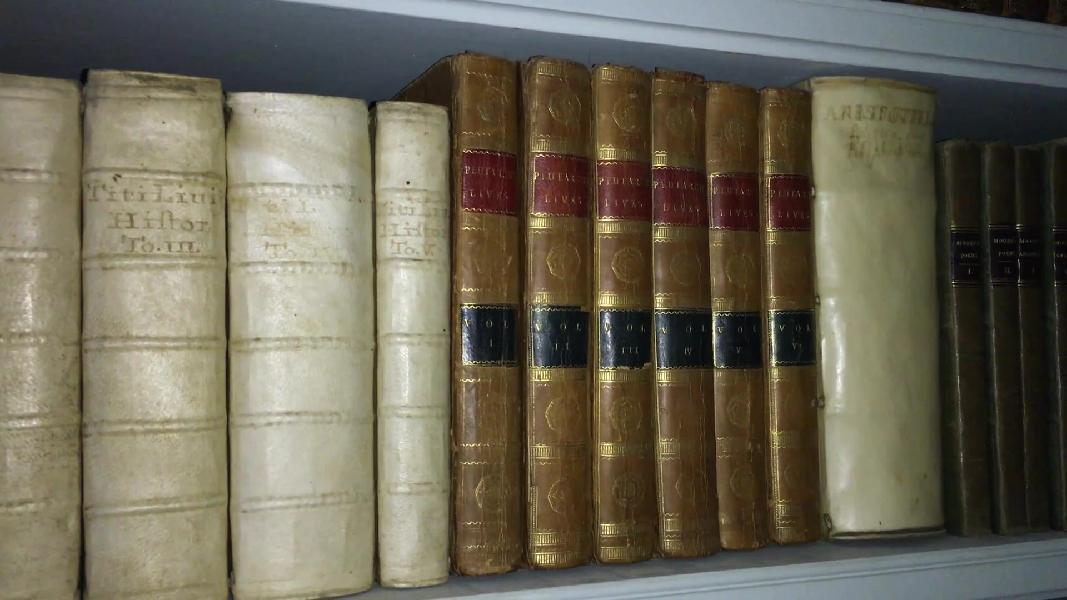Kk4-14: (804, 66, 954, 554)
Kk4-15_16: (927, 117, 1038, 548)
Kk4-17_18: (1012, 132, 1067, 539)
Kk4-3_7: (1, 52, 466, 598)
Kk4-8_13: (446, 34, 836, 584)
